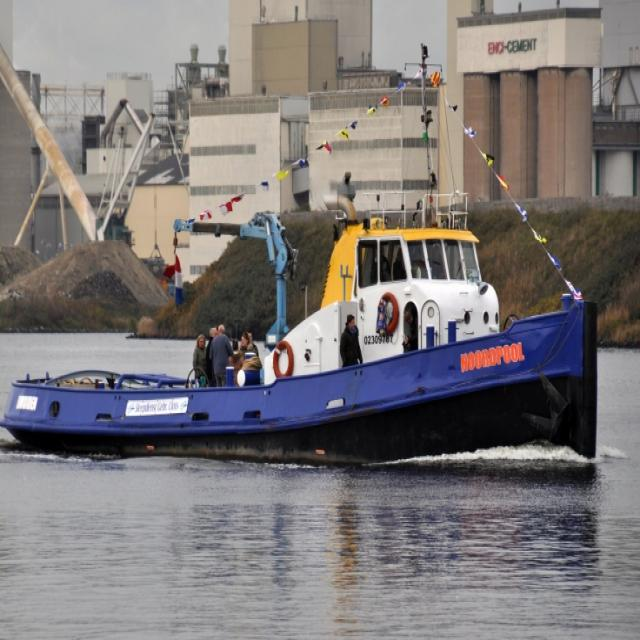tugboat: (1, 177, 603, 474)
